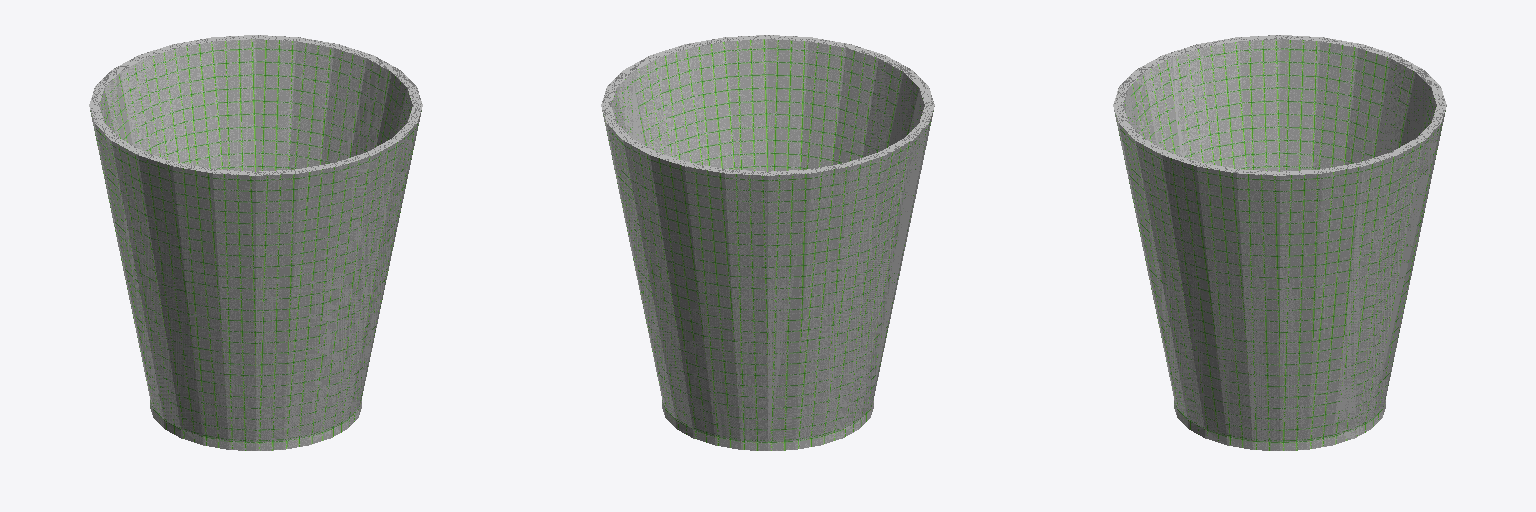
3 views of the same model, side by side, from view 1: azimuth 30°, elevation 25°; view 2: azimuth 150°, elevation 25°; view 3: azimuth 270°, elevation 25° (orthographic).
Visible parts, largest first — view 1: mesh1_mesh1-geometry; view 2: mesh1_mesh1-geometry; view 3: mesh1_mesh1-geometry.
Part boxes in pixels (x1,y1,x2,y2): mesh1_mesh1-geometry: (89,35,422,450); mesh1_mesh1-geometry: (601,35,934,450); mesh1_mesh1-geometry: (1113,35,1446,450).
Bounding box in the file's own units: 0.5781 × 0.5758 × 0.5781.
Materials: 4 (1 with a texture image).